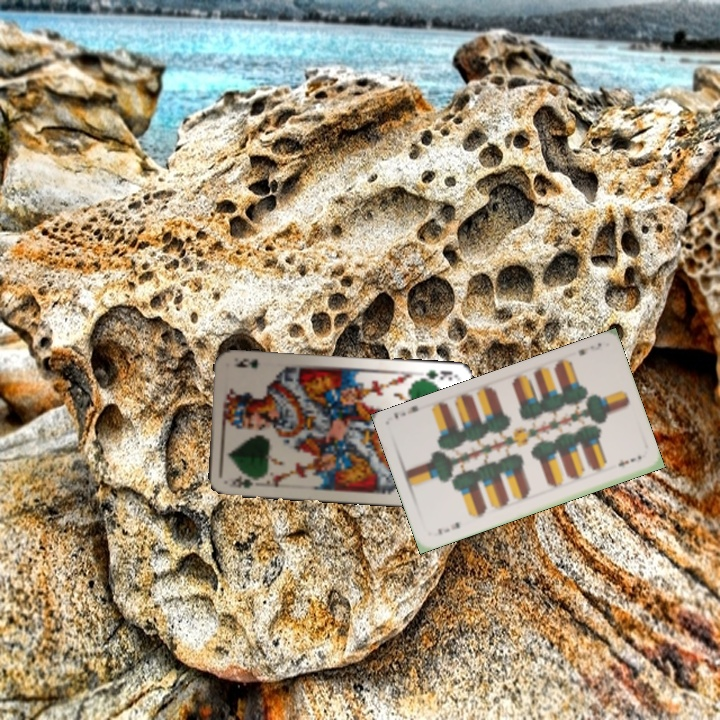E7: (574, 339, 604, 358), (433, 518, 462, 537)
GK: (225, 472, 262, 491), (416, 366, 457, 383)
